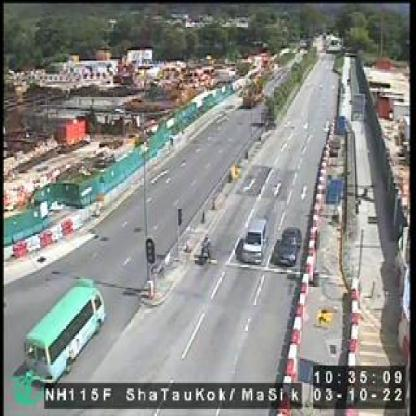Car: (270, 227, 300, 265), (240, 220, 266, 262)
Minibus: (23, 276, 104, 380)
